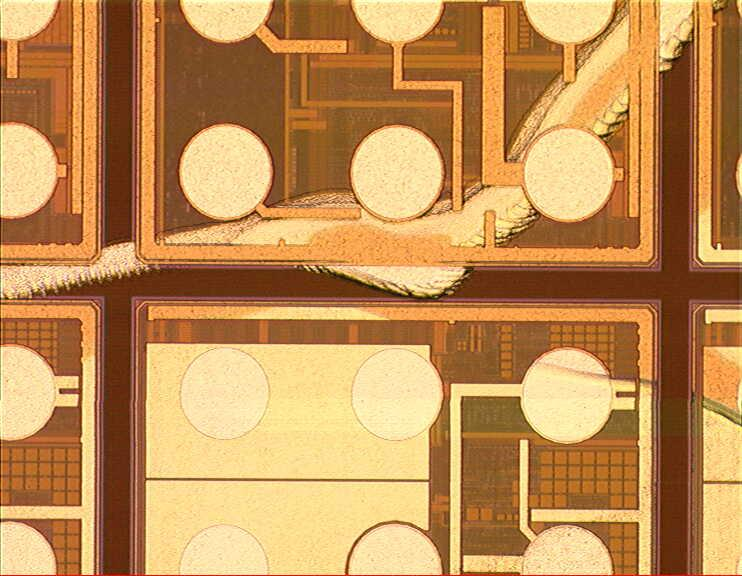COATING BAD: (1, 1, 733, 307)
